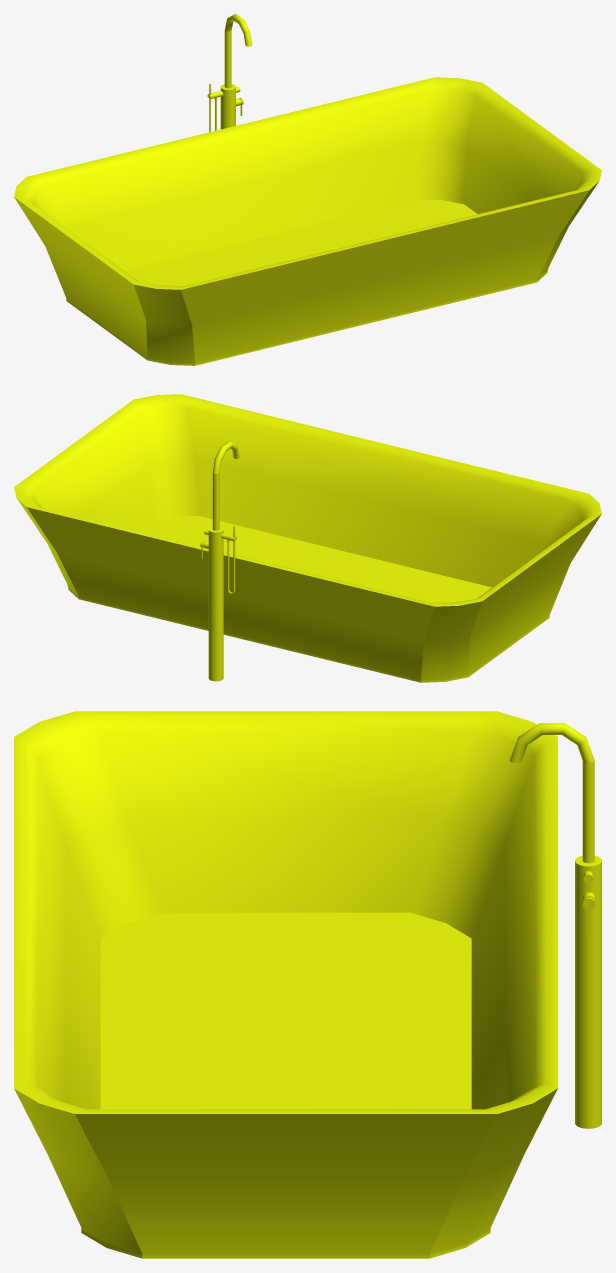
The model's file is Bathub1.FBX.
3 views of the same model, one above another, from view 1: azimuth 30°, elevation 25°; view 2: azimuth 150°, elevation 25°; view 3: azimuth 270°, elevation 25° (orthographic). The views are drawn at different scales.
Parts seen in each view (by area): view 1: Box003; view 2: Box003; view 3: Box003.
Boxes of the visible parts, left/top/right/bottom form: Box003: left=14, top=14, right=601, bottom=365; Box003: left=14, top=394, right=601, bottom=682; Box003: left=14, top=711, right=601, bottom=1258.
Size of the model in its own units: 4.78 by 2.21 by 2.95.
